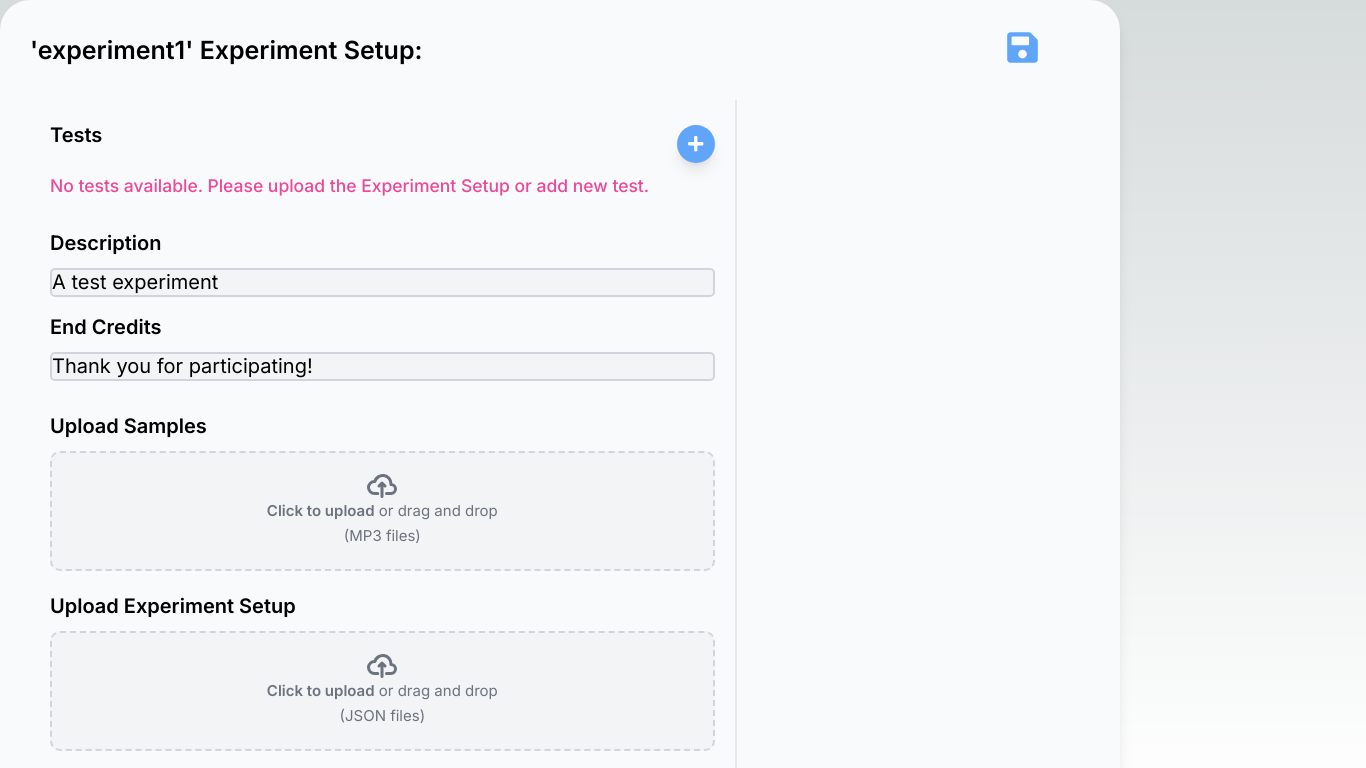
Test: CreateExperimentForm › handles adding a new test
Click the button named "Add new test".
click(696, 144)  # box left=677, top=125, right=715, bottom=162
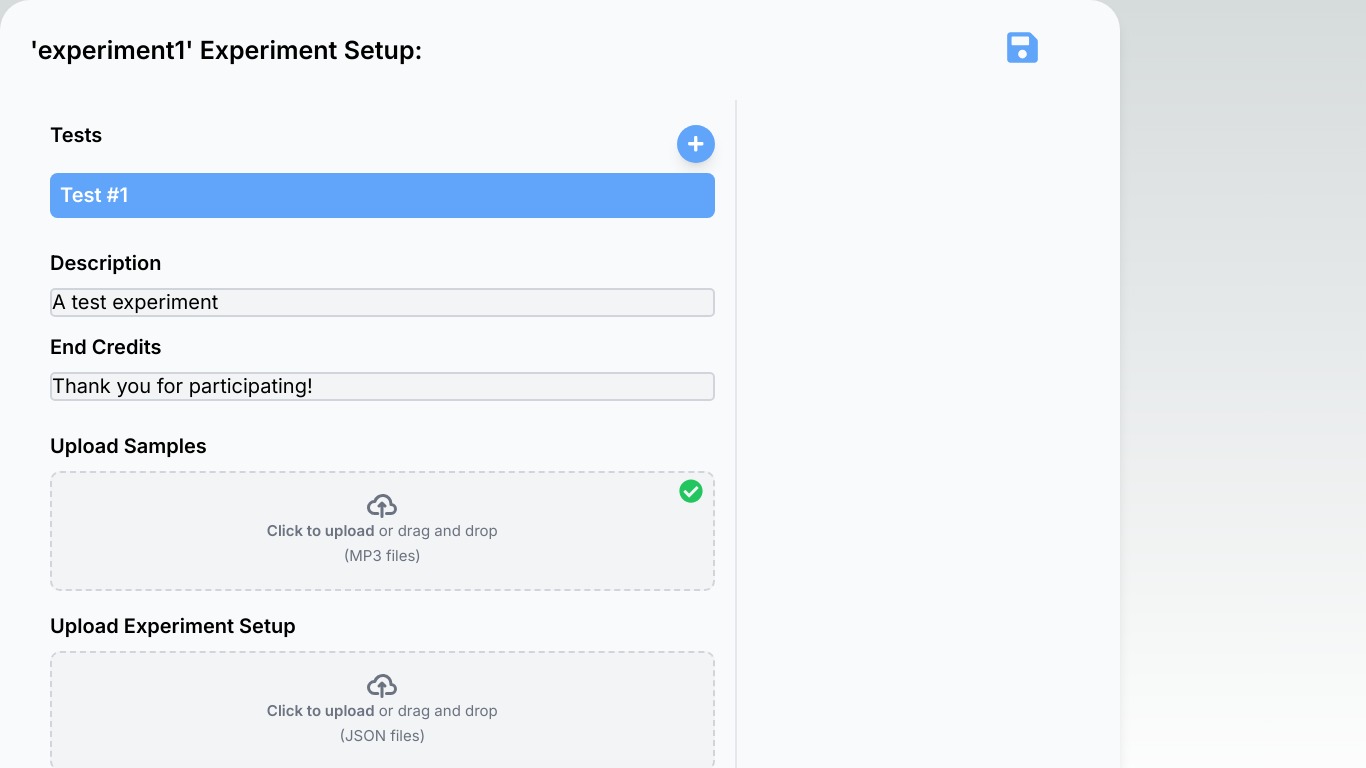
expect the text "Test #1" is shown: met, box left=60, top=182, right=128, bottom=208
